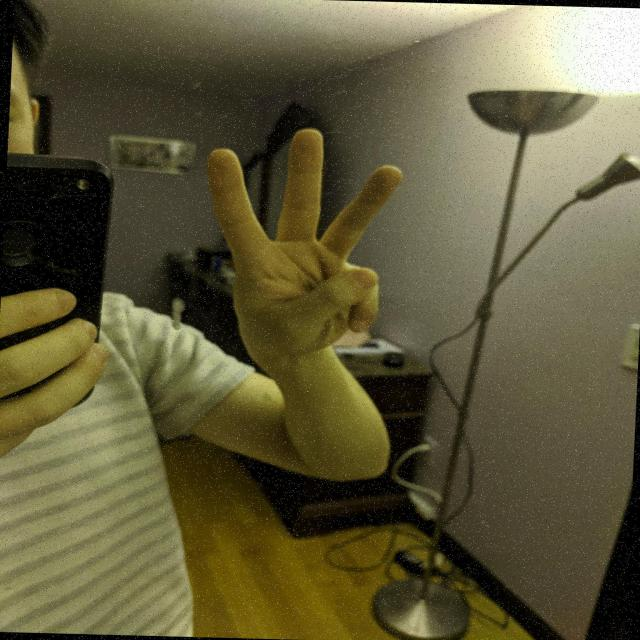W: (192, 122, 410, 370)
